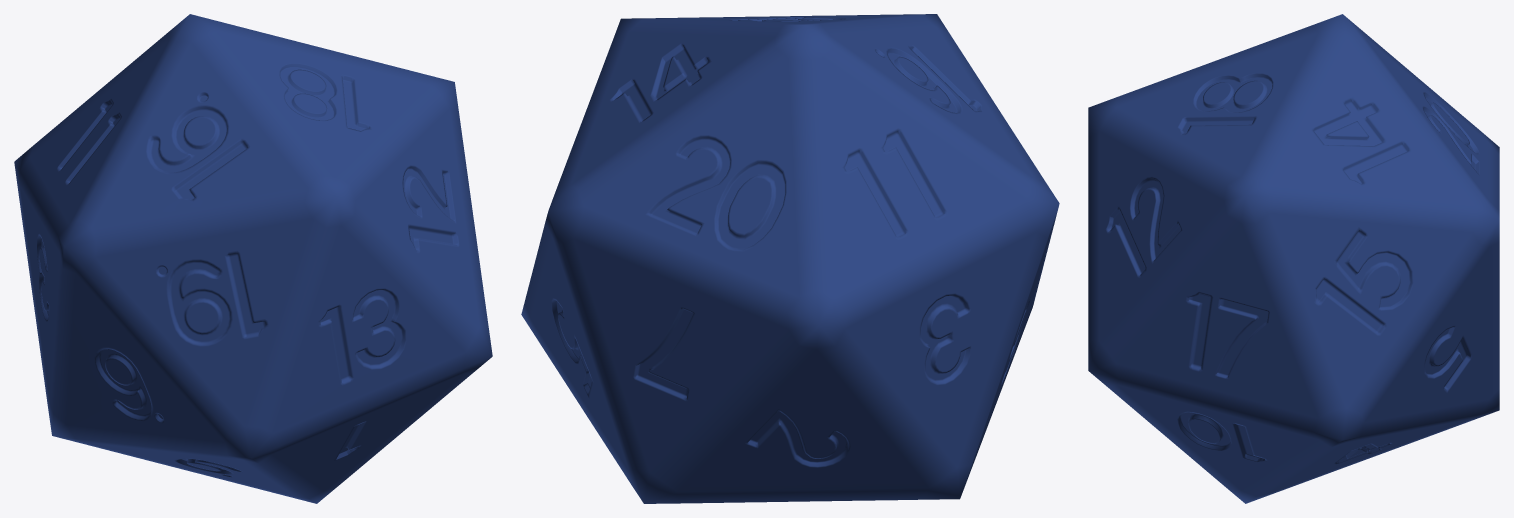
Rendered from die_20.glb.
3 renders of one model, left to right at view 1: azimuth 30°, elevation 25°; view 2: azimuth 150°, elevation 25°; view 3: azimuth 270°, elevation 25°, orthographic. The views are drawn at different scales.
Bounding box in the file's own units: 46434 × 48812 × 40059.
